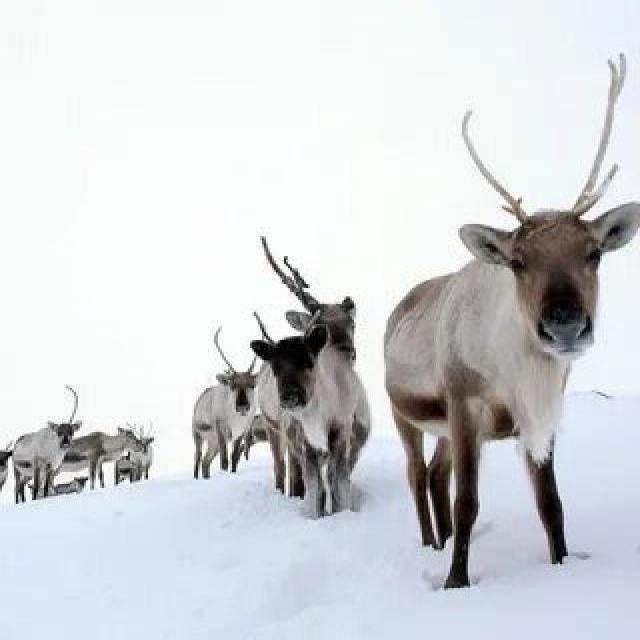deer: (306, 134, 640, 538)
